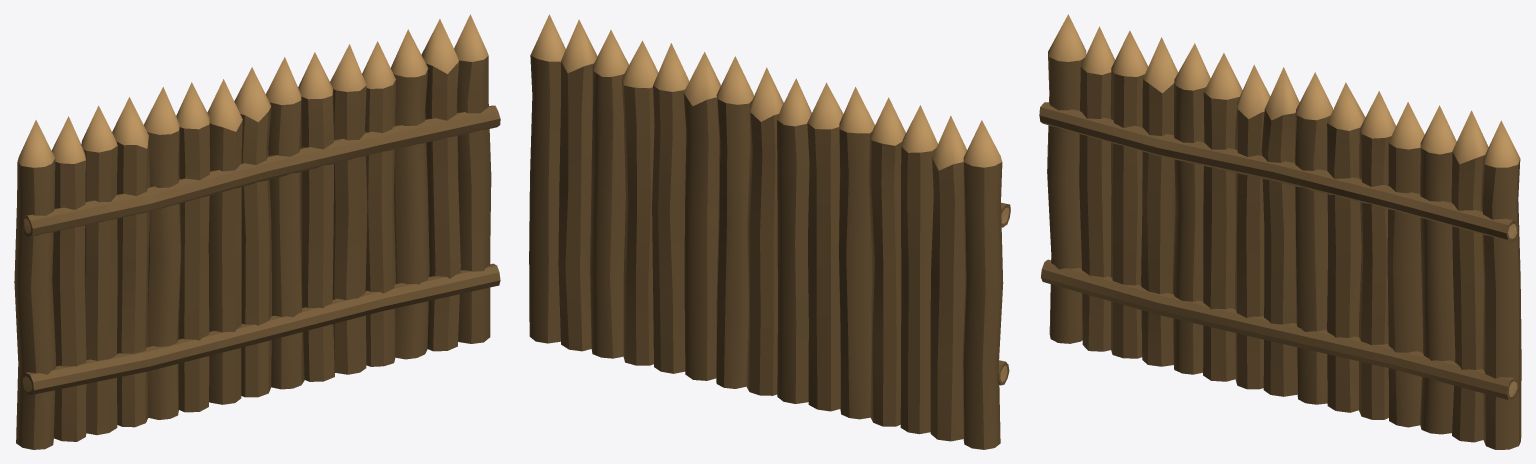
File: WallPalisade.FBX
3 renders of one model, left to right at view 1: azimuth 30°, elevation 25°; view 2: azimuth 150°, elevation 25°; view 3: azimuth 330°, elevation 25°, orthographic.
Visible parts, largest first — view 1: LogWall, WallFrame (×2); view 2: LogWall; view 3: LogWall, WallFrame (×2).
Boxes of the visible parts, bbox=[...] form: LogWall: bbox=[14, 14, 491, 449]; WallFrame (×2): bbox=[21, 105, 500, 394]; LogWall: bbox=[529, 14, 1003, 449]; LogWall: bbox=[1047, 14, 1521, 449]; WallFrame (×2): bbox=[1039, 102, 1519, 400].
Size of the model in its own units: 3063 by 2019 by 262.
